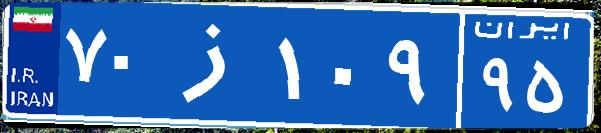0: (330, 28, 385, 110), (110, 28, 158, 105)
1: (273, 28, 330, 110)
5: (525, 38, 570, 115)
7: (57, 26, 110, 107)
9: (385, 28, 445, 110), (475, 38, 525, 113)
ز: (158, 15, 273, 115)
